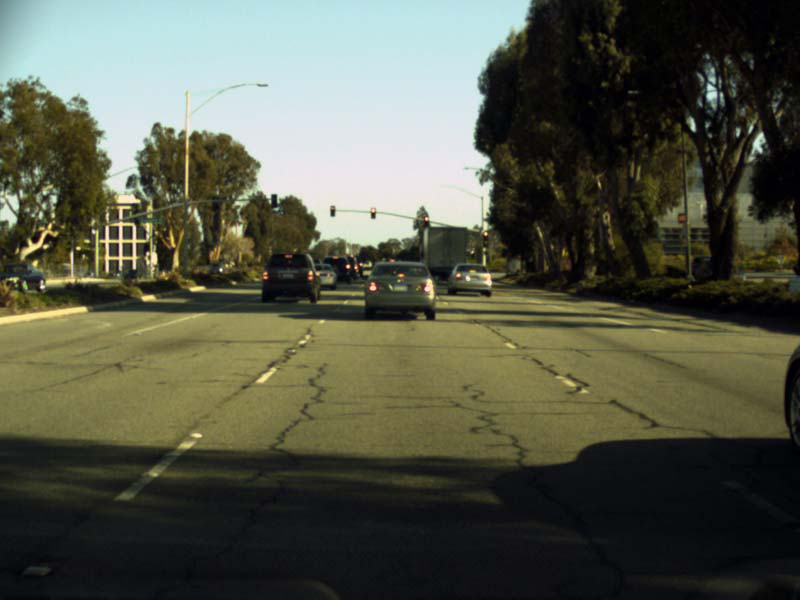Red: (482, 231, 487, 246), (370, 207, 375, 218), (330, 205, 334, 216), (424, 216, 428, 226)
